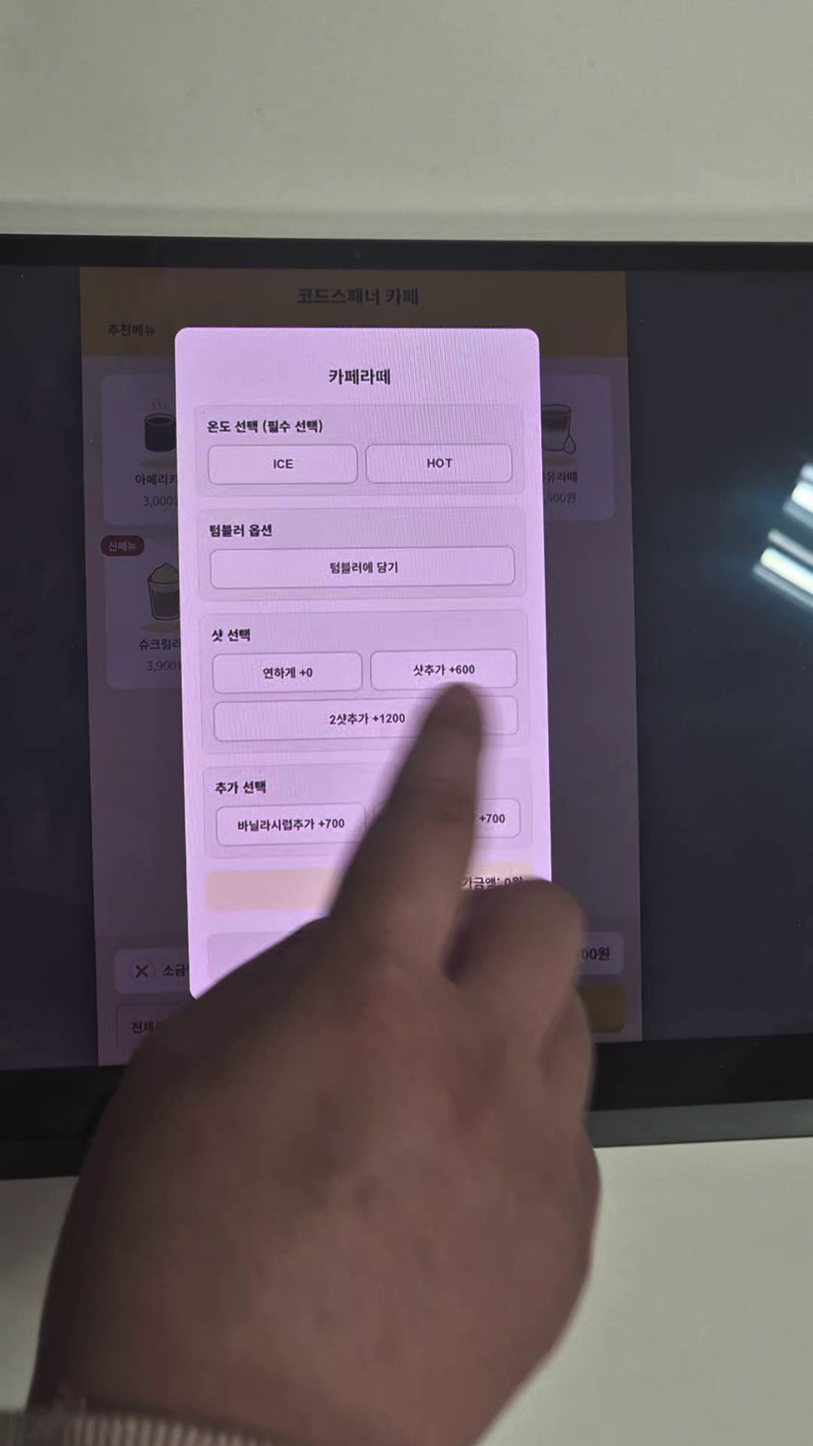menu_name: (328, 368, 392, 385)
option_button: (213, 697, 518, 740), (209, 545, 515, 587), (211, 652, 362, 693), (371, 648, 515, 689), (217, 804, 368, 843), (208, 445, 356, 483), (369, 444, 512, 482)
popup_modal: (177, 329, 558, 1005)
